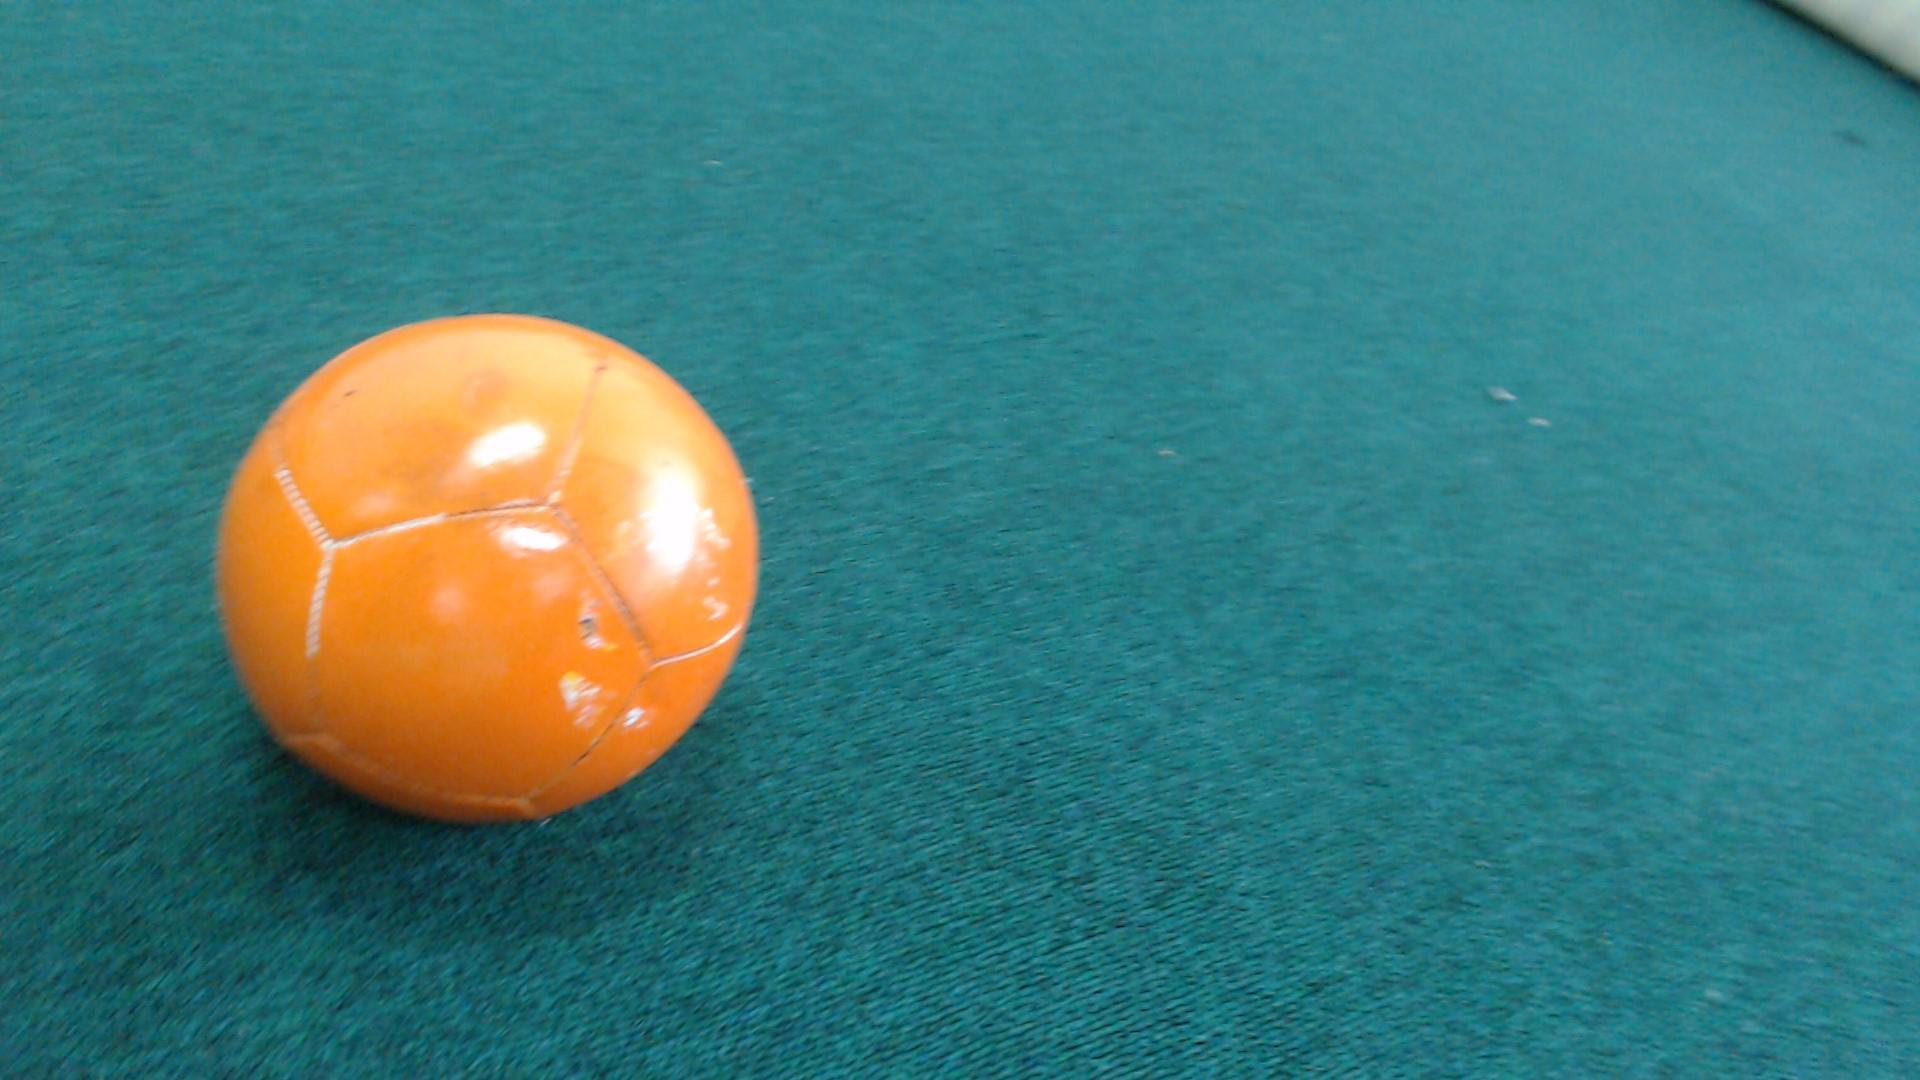bola: (198, 276, 799, 832)
